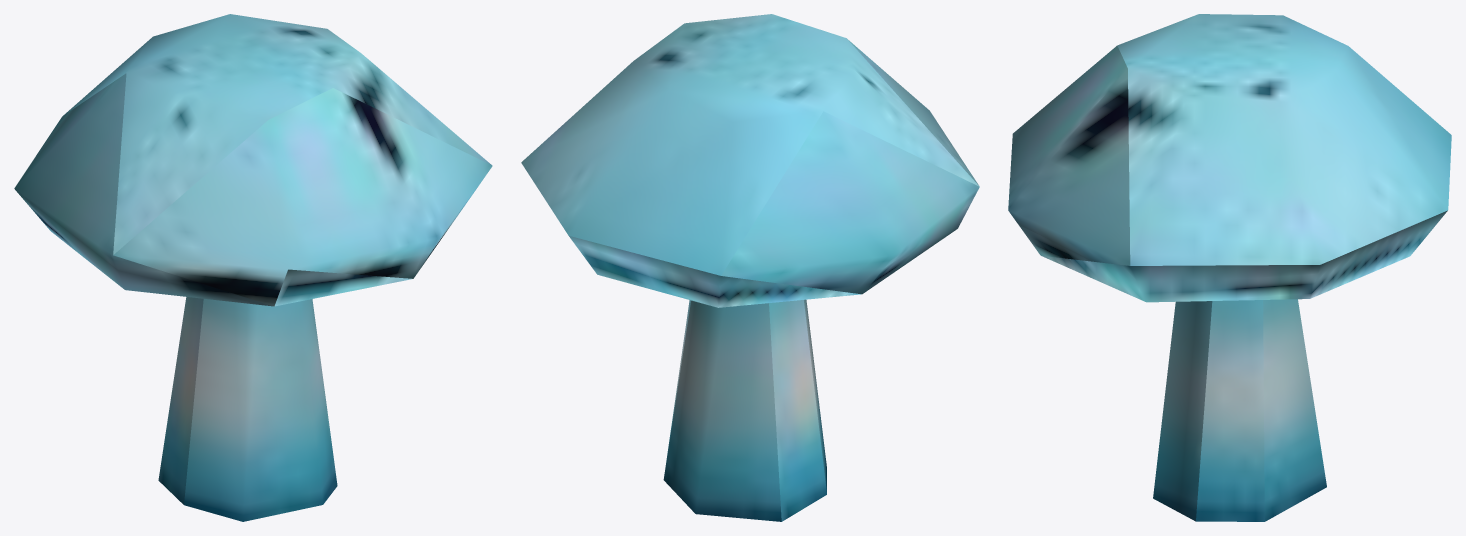
The model's file is b_mycelium_deco_champignon_lod1.glb.
3 views of the same model, side by side, from view 1: azimuth 30°, elevation 25°; view 2: azimuth 150°, elevation 25°; view 3: azimuth 270°, elevation 25° (orthographic).
Visible parts, largest first — view 1: geometry_0; view 2: geometry_0; view 3: geometry_0.
Boxes of the visible parts, <box> form: geometry_0: <box>14,14,492,521</box>; geometry_0: <box>521,14,979,521</box>; geometry_0: <box>1008,14,1451,521</box>.
Size of the model in its own units: 0.9141 by 0.9881 by 0.9147.
1 material, 1 textured.
